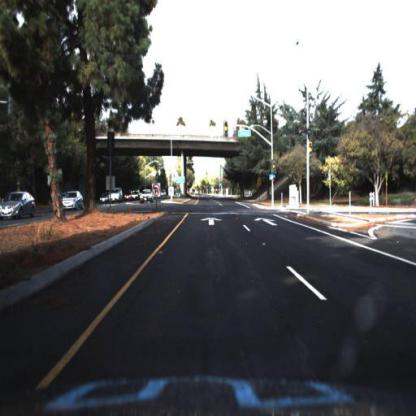car: (2, 190, 37, 222), (63, 186, 85, 215), (108, 186, 124, 209), (108, 188, 122, 204), (130, 186, 141, 206), (142, 190, 155, 204)
trafficLight-Yellow: (308, 140, 317, 158), (224, 120, 230, 140), (272, 158, 277, 175), (309, 139, 314, 155)
